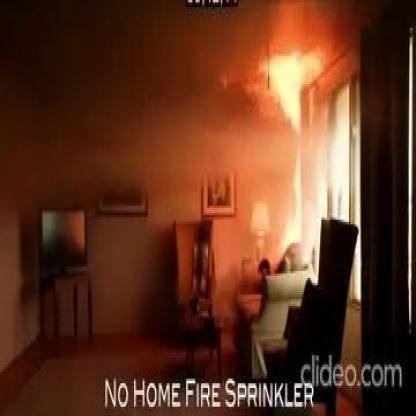fire: (258, 53, 300, 132), (282, 152, 302, 243), (302, 51, 324, 86)
